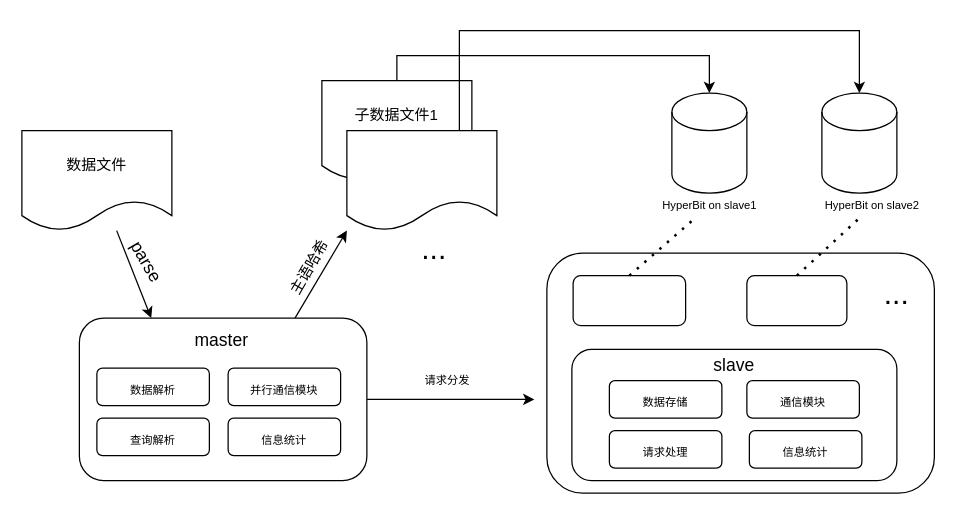
The diagram is 969 pixels wide and 515 high, and some of its shapes have lost their labels. The shapes that lost their labels are listed below. From the top down, each one's centre as x and y in pixels, then its label:
(421,180): 子数据文件2
(629,300): slave1
(796,300): slave2
